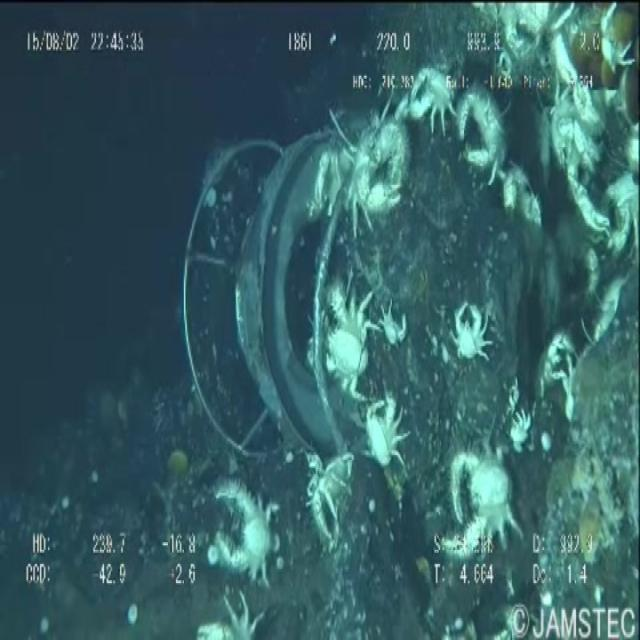Metal: (160, 120, 569, 538)
